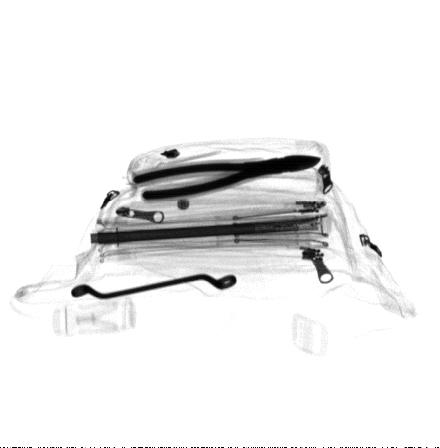Pliers: (128, 154, 324, 202)
Wrench: (71, 273, 238, 300)
